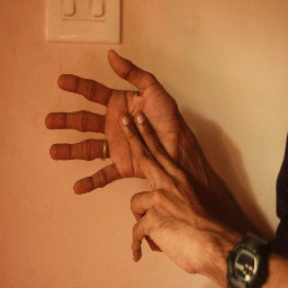N: (38, 49, 206, 257)
